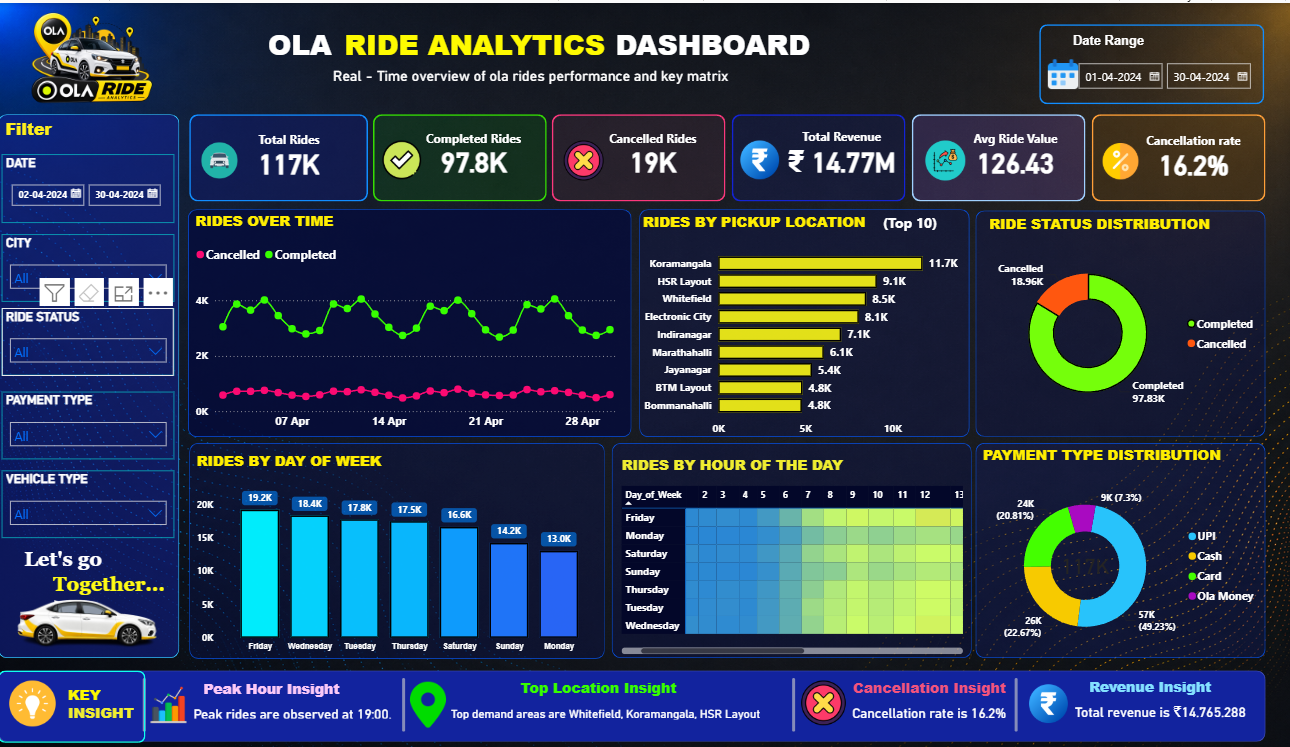

What the dashboard file says about the page in this screenshot:
{"tool":"powerbi","page":{"name":"Dashboard","canvas":[1743,1000],"ordinal":0},"visuals":[{"type":"shape","box":[0,149.1,243,728.9],"z":0},{"type":"shape","box":[256.4,149.1,239.6,117],"z":1000},{"type":"shape","box":[502.7,149.1,232.9,117],"z":2000},{"type":"shape","box":[742.3,149.1,232.9,117],"z":3000},{"type":"shape","box":[983.6,149.1,232.9,117],"z":4000},{"type":"shape","box":[1224.9,149.1,232.9,117],"z":5000},{"type":"shape","box":[1466.2,149.1,232.9,117],"z":6000},{"type":"shape","box":[255.4,276.8,594.6,305.4],"z":7000},{"type":"shape","box":[858.9,276.8,442.9,305.4],"z":8000},{"type":"shape","box":[1310.3,278.2,388.7,303.3],"z":9000},{"type":"shape","box":[257.1,589.3,557.1,289.3],"z":10000},{"type":"shape","box":[822.2,588.6,484,289.6],"z":11000},{"type":"shape","box":[1310.3,589.8,388.7,288.2],"z":12000},{"type":"shape","box":[0,894.8,1699.1,95.5],"z":13000},{"type":"shape","box":[175.9,904.8,40.2,72.1],"z":14000},{"type":"shape","box":[509.4,904.8,68.7,72.1],"z":15000},{"type":"shape","box":[1032.2,904.8,68.7,72.1],"z":16000},{"type":"shape","box":[1329.9,904.8,68.7,72.1],"z":17000},{"type":"cardVisual","fields":{"Data":["Ride_data.Total Rides"]},"box":[244.6,137.4,291.6,132.4],"z":18000},{"type":"cardVisual","fields":{"Data":["Ride_data.Completed Rides"]},"box":[539.5,137.4,196,129],"z":19000},{"type":"cardVisual","fields":{"Data":["Ride_data.Cancelled Rides"]},"box":[785.9,137.4,184.3,129],"z":20000},{"type":"cardVisual","fields":{"Data":["Ride_data.Total Revenue"]},"box":[1010.4,137.4,241.3,129],"z":21000},{"type":"cardVisual","fields":{"Data":["Ride_data.Avg Ride Value"]},"box":[1253.4,137.4,221.2,130.7],"z":22000},{"type":"cardVisual","fields":{"Data":["Ride_data.Cancellation Rate"]},"box":[1489.6,140.8,226.2,129],"z":23000},{"type":"image","box":[479.2,184.3,124,51.9],"z":24000},{"type":"image","box":[742.3,184.3,85.5,53.6],"z":25000},{"type":"image","box":[1469.5,187.7,70.4,48.6],"z":26000},{"type":"lineChart","title":"RIDES OVER TIME ","fields":{"Y":["Ride_data.Total Rides"],"Category":["Ride_data.Date.Variation.Date Hierarchy.Year","Ride_data.Date.Variation.Date Hierarchy.Month","Ride_data.Date.Variation.Date Hierarchy.Day"],"Series":["Ride_data.Ride_Status"]},"box":[259.7,278.2,589.8,303.3],"z":27000},{"type":"clusteredBarChart","title":"RIDES BY PICKUP LOCATION ","fields":{"Category":["Ride_data.Pickup_Location"],"Y":["Ride_data.Total Rides1"]},"box":[859.6,279.8,444,310],"z":28000},{"type":"textbox","box":[1182.1,276.8,116.1,35.7],"z":29000},{"type":"donutChart","title":" RIDE STATUS DISTRIBUTION","fields":{"Category":["Ride_data.Ride_Status"],"Y":["CountNonNull(Ride_data.Ride_ID)"]},"box":[1323.7,281.5,373.7,284.9],"z":30000},{"type":"columnChart","title":"RIDES BY DAY OF WEEK ","fields":{"Category":["Ride_data.Day_of_Week"],"Y":["CountNonNull(Ride_data.Ride_ID)"]},"box":[261.4,599.9,549.6,278.2],"z":31000},{"type":"donutChart","title":"PAYMENT TYPE  DISTRIBUTION","fields":{"Category":["Ride_data.Payment_Type"],"Y":["Ride_data.Total Rides1"]},"box":[1315.4,591.5,382,288.2],"z":32000},{"type":"pivotTable","title":"RIDES BY HOUR OF THE DAY","fields":{"Rows":["Ride_data.Day_of_Week"],"Columns":["Ride_data.Hour"],"Values":["Ride_data.Total Rides1"]},"box":[831.5,597.9,467.1,282.2],"z":33000},{"type":"image","box":[13.4,908.2,65.3,62],"z":34000},{"type":"textbox","box":[88.8,908.2,73.7,43.6],"z":35000},{"type":"textbox","box":[88.8,933.3,113.9,43.6],"z":36000},{"type":"image","box":[197.7,916.6,62,48.6],"z":37000},{"type":"image","box":[541.2,898.1,70.4,85.5],"z":38000},{"type":"image","box":[1075.7,908.2,62,60.3],"z":39000},{"type":"textbox","box":[356.9,23.5,122.3,70.4],"z":40000},{"type":"textbox","box":[459.1,23.5,400.5,70.4],"z":41000},{"type":"textbox","box":[822.7,23.5,305,70.4],"z":42000},{"type":"textbox","box":[439,82.1,598.2,82.1],"z":43000},{"type":"textbox","box":[5,149.1,122.3,41.9],"z":44000},{"type":"slicer","title":"DATE","fields":{"Values":["Ride_data.Date"]},"box":[5,202.7,231.2,92.2],"z":45000},{"type":"slicer","title":"CITY","fields":{"Values":["Ride_data.Pickup_Location"]},"box":[5,310,231.2,90.5],"z":46000},{"type":"slicer","title":"RIDE STATUS ","fields":{"Values":["Ride_data.Ride_Status"]},"box":[5,408.8,231.2,90.5],"z":47000},{"type":"slicer","title":"PAYMENT TYPE","fields":{"Values":["Ride_data.Payment_Type"]},"box":[5,521.1,231.2,90.5],"z":48000},{"type":"slicer","title":"VEHICLE TYPE ","fields":{"Values":["Ride_data.Vehicle_Type"]},"box":[5,626.7,231.2,90.5],"z":49000},{"type":"image","box":[5,8.4,232.9,134],"z":50000},{"type":"image","box":[23.5,764.1,192.7,130.7],"z":51000},{"type":"slicer","title":"Date Range","fields":{"Values":["Ride_data.Date"]},"box":[1436,40.2,261.4,82.1],"z":52000},{"type":"image","box":[1402.5,75.4,50.3,40.2],"z":53000},{"type":"image","box":[222.9,182.6,147.5,57],"z":54000},{"type":"image","box":[936.7,184.3,169.2,51.9],"z":55000},{"type":"image","box":[1238.3,184.3,63.7,53.6],"z":56000},{"type":"cardVisual","fields":{"Data":["Ride_data.Peak Hour Insight"]},"box":[232.9,926.6,325.1,50.3],"z":57000},{"type":"cardVisual","fields":{"Data":["Ride_data.Top Location Insight"]},"box":[578.1,926.6,574.7,51.9],"z":58000},{"type":"cardVisual","fields":{"Data":["Ride_data.Cancellation Insight"]},"box":[1116,911.5,279.8,78.8],"z":59000},{"type":"cardVisual","fields":{"Data":["Ride_data.Revenue Insight"]},"box":[1414.2,924.9,328.4,50.3],"z":60000},{"type":"image","box":[1323.7,913.2,169.2,51.9],"z":61000},{"type":"textbox","box":[30.2,725.5,127.3,65.3],"z":62000},{"type":"textbox","box":[68.7,759.1,224.5,65.3],"z":63000},{"type":"textbox","box":[264.7,898.1,279.8,38.5],"z":65000},{"type":"textbox","box":[695.4,899.8,266.4,38.5],"z":66000},{"type":"textbox","box":[1141.1,899.8,279.8,41.9],"z":67000},{"type":"textbox","box":[1457.8,898.1,279.8,38.5],"z":68000},{"type":"shape","box":[0,894.8,197.7,97.2],"z":69000}]}

Visuals, with their boxes in screenshot pixels (x1, y1, x2, y2), scaled from the page's 1743x1000 canvas onto the 1290x747 screenshot:
shape: <bbox>0, 111, 180, 656</bbox>
shape: <bbox>190, 111, 367, 199</bbox>
shape: <bbox>372, 111, 544, 199</bbox>
shape: <bbox>549, 111, 722, 199</bbox>
shape: <bbox>728, 111, 900, 199</bbox>
shape: <bbox>907, 111, 1079, 199</bbox>
shape: <bbox>1085, 111, 1258, 199</bbox>
shape: <bbox>189, 207, 629, 435</bbox>
shape: <bbox>636, 207, 963, 435</bbox>
shape: <bbox>970, 208, 1257, 434</bbox>
shape: <bbox>190, 440, 603, 656</bbox>
shape: <bbox>609, 440, 967, 656</bbox>
shape: <bbox>970, 441, 1257, 656</bbox>
shape: <bbox>0, 668, 1258, 740</bbox>
shape: <bbox>130, 676, 160, 730</bbox>
shape: <bbox>377, 676, 428, 730</bbox>
shape: <bbox>764, 676, 815, 730</bbox>
shape: <bbox>984, 676, 1035, 730</bbox>
cardVisual - Ride_data.Total Rides: <bbox>181, 103, 397, 202</bbox>
cardVisual - Ride_data.Completed Rides: <bbox>399, 103, 544, 199</bbox>
cardVisual - Ride_data.Cancelled Rides: <bbox>582, 103, 718, 199</bbox>
cardVisual - Ride_data.Total Revenue: <bbox>748, 103, 926, 199</bbox>
cardVisual - Ride_data.Avg Ride Value: <bbox>928, 103, 1091, 200</bbox>
cardVisual - Ride_data.Cancellation Rate: <bbox>1102, 105, 1270, 202</bbox>
image: <bbox>355, 138, 446, 176</bbox>
image: <bbox>549, 138, 613, 178</bbox>
image: <bbox>1088, 140, 1140, 177</bbox>
"RIDES OVER TIME " lineChart: <bbox>192, 208, 629, 434</bbox>
"RIDES BY PICKUP LOCATION " clusteredBarChart: <bbox>636, 209, 965, 441</bbox>
textbox: <bbox>875, 207, 961, 233</bbox>
" RIDE STATUS DISTRIBUTION" donutChart: <bbox>980, 210, 1256, 423</bbox>
"RIDES BY DAY OF WEEK " columnChart: <bbox>193, 448, 600, 656</bbox>
"PAYMENT TYPE  DISTRIBUTION" donutChart: <bbox>974, 442, 1256, 657</bbox>
"RIDES BY HOUR OF THE DAY" pivotTable: <bbox>615, 447, 961, 657</bbox>
image: <bbox>10, 678, 58, 725</bbox>
textbox: <bbox>66, 678, 120, 711</bbox>
textbox: <bbox>66, 697, 150, 730</bbox>
image: <bbox>146, 685, 192, 721</bbox>
image: <bbox>401, 671, 453, 735</bbox>
image: <bbox>796, 678, 842, 723</bbox>
textbox: <bbox>264, 18, 355, 70</bbox>
textbox: <bbox>340, 18, 636, 70</bbox>
textbox: <bbox>609, 18, 835, 70</bbox>
textbox: <bbox>325, 61, 768, 123</bbox>
textbox: <bbox>4, 111, 94, 143</bbox>
"DATE" slicer: <bbox>4, 151, 175, 220</bbox>
"CITY" slicer: <bbox>4, 232, 175, 299</bbox>
"RIDE STATUS " slicer: <bbox>4, 305, 175, 373</bbox>
"PAYMENT TYPE" slicer: <bbox>4, 389, 175, 457</bbox>
"VEHICLE TYPE " slicer: <bbox>4, 468, 175, 536</bbox>
image: <bbox>4, 6, 176, 106</bbox>
image: <bbox>17, 571, 160, 668</bbox>
"Date Range" slicer: <bbox>1063, 30, 1256, 91</bbox>
image: <bbox>1038, 56, 1075, 86</bbox>
image: <bbox>165, 136, 274, 179</bbox>
image: <bbox>693, 138, 818, 176</bbox>
image: <bbox>916, 138, 964, 178</bbox>
cardVisual - Ride_data.Peak Hour Insight: <bbox>172, 692, 413, 730</bbox>
cardVisual - Ride_data.Top Location Insight: <bbox>428, 692, 853, 731</bbox>
cardVisual - Ride_data.Cancellation Insight: <bbox>826, 681, 1033, 740</bbox>
cardVisual - Ride_data.Revenue Insight: <bbox>1047, 691, 1289, 728</bbox>
image: <bbox>980, 682, 1105, 721</bbox>
textbox: <bbox>22, 542, 117, 591</bbox>
textbox: <bbox>51, 567, 217, 616</bbox>
textbox: <bbox>196, 671, 403, 700</bbox>
textbox: <bbox>515, 672, 712, 701</bbox>
textbox: <bbox>845, 672, 1052, 703</bbox>
textbox: <bbox>1079, 671, 1286, 700</bbox>
shape: <bbox>0, 668, 146, 741</bbox>
